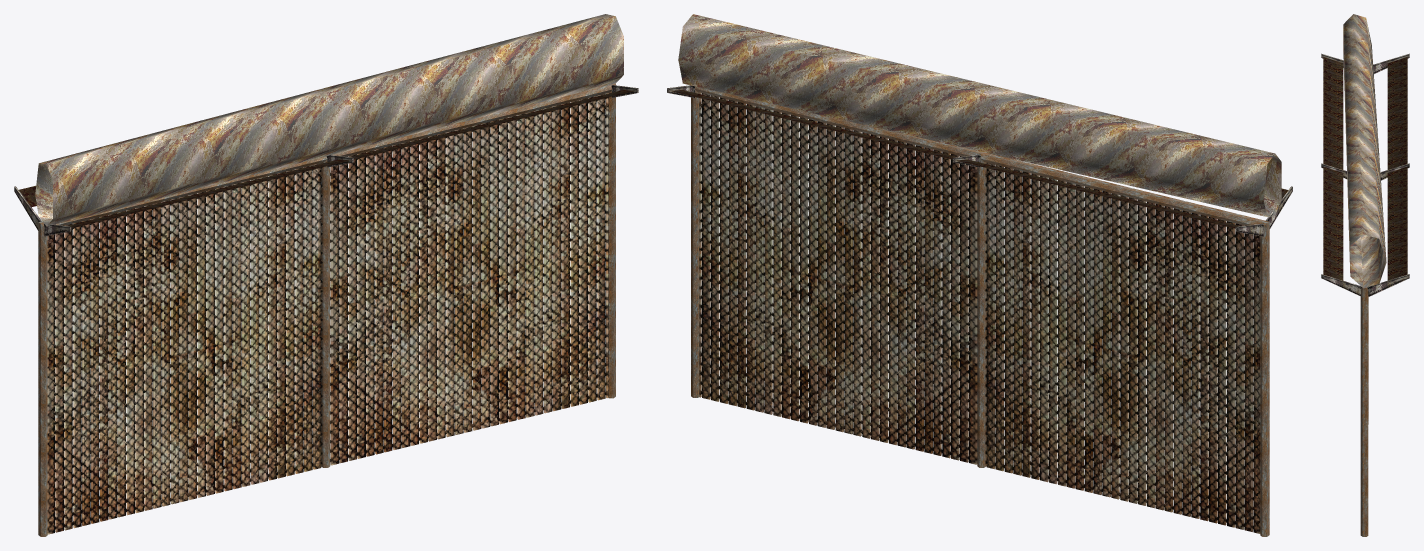
The model's file is fence5m_slum.fbx.
The picture shows the model from 3 angles, left to right: view 1: azimuth 30°, elevation 25°; view 2: azimuth 150°, elevation 25°; view 3: azimuth 270°, elevation 25°; orthographic projection. The views are drawn at different scales.
Parts seen in each view (by area): view 1: mesh_2, mesh_0, mesh_3, mesh_1; view 2: mesh_2, mesh_0, mesh_3, mesh_1; view 3: mesh_1, mesh_0, mesh_3.
Part boxes in pixels (x1,y1,x2,y2): mesh_2: (47, 93, 608, 534); mesh_0: (35, 14, 623, 226); mesh_3: (38, 83, 615, 536); mesh_1: (14, 85, 638, 236); mesh_2: (699, 92, 1260, 533); mesh_0: (678, 14, 1281, 216); mesh_3: (691, 86, 1269, 536); mesh_1: (667, 85, 1292, 236); mesh_1: (1321, 53, 1409, 296); mesh_0: (1343, 14, 1386, 287); mesh_3: (1360, 285, 1368, 536).
Size of the model in its own units: 500 by 316 by 83.29.
Materials: 4 (4 with a texture image).
